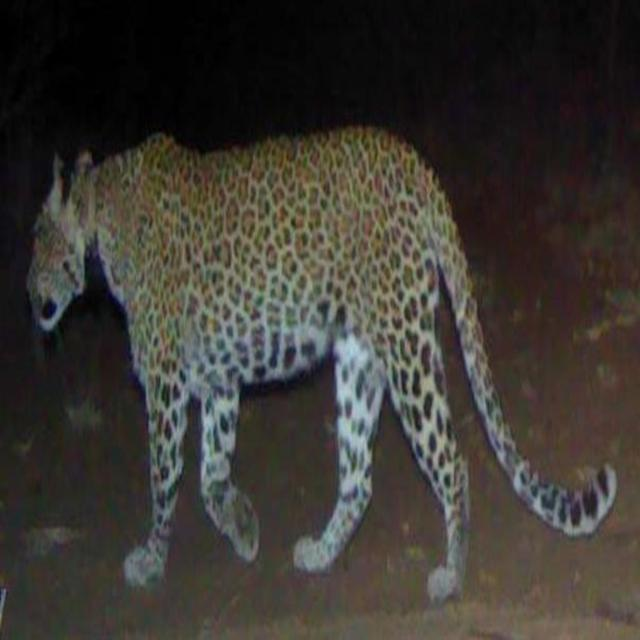Leopard: (29, 134, 612, 638)
